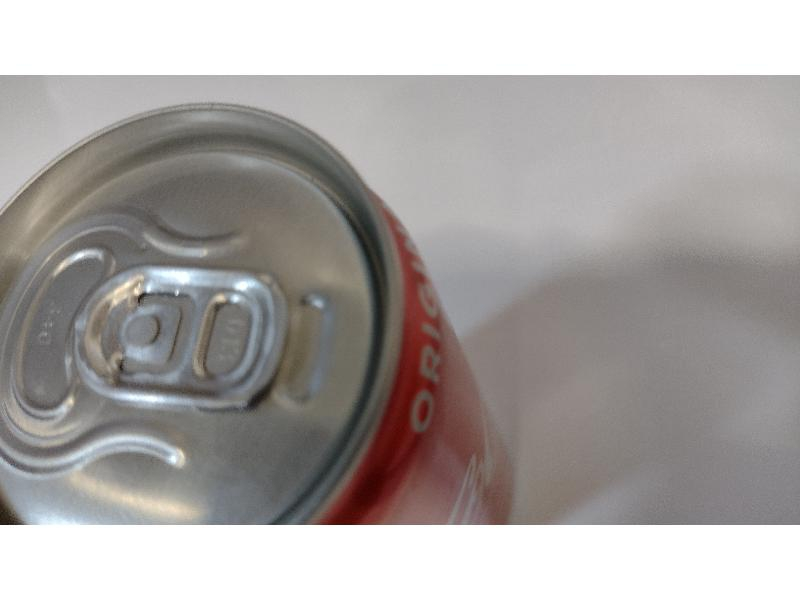can: (0, 99, 536, 524)
